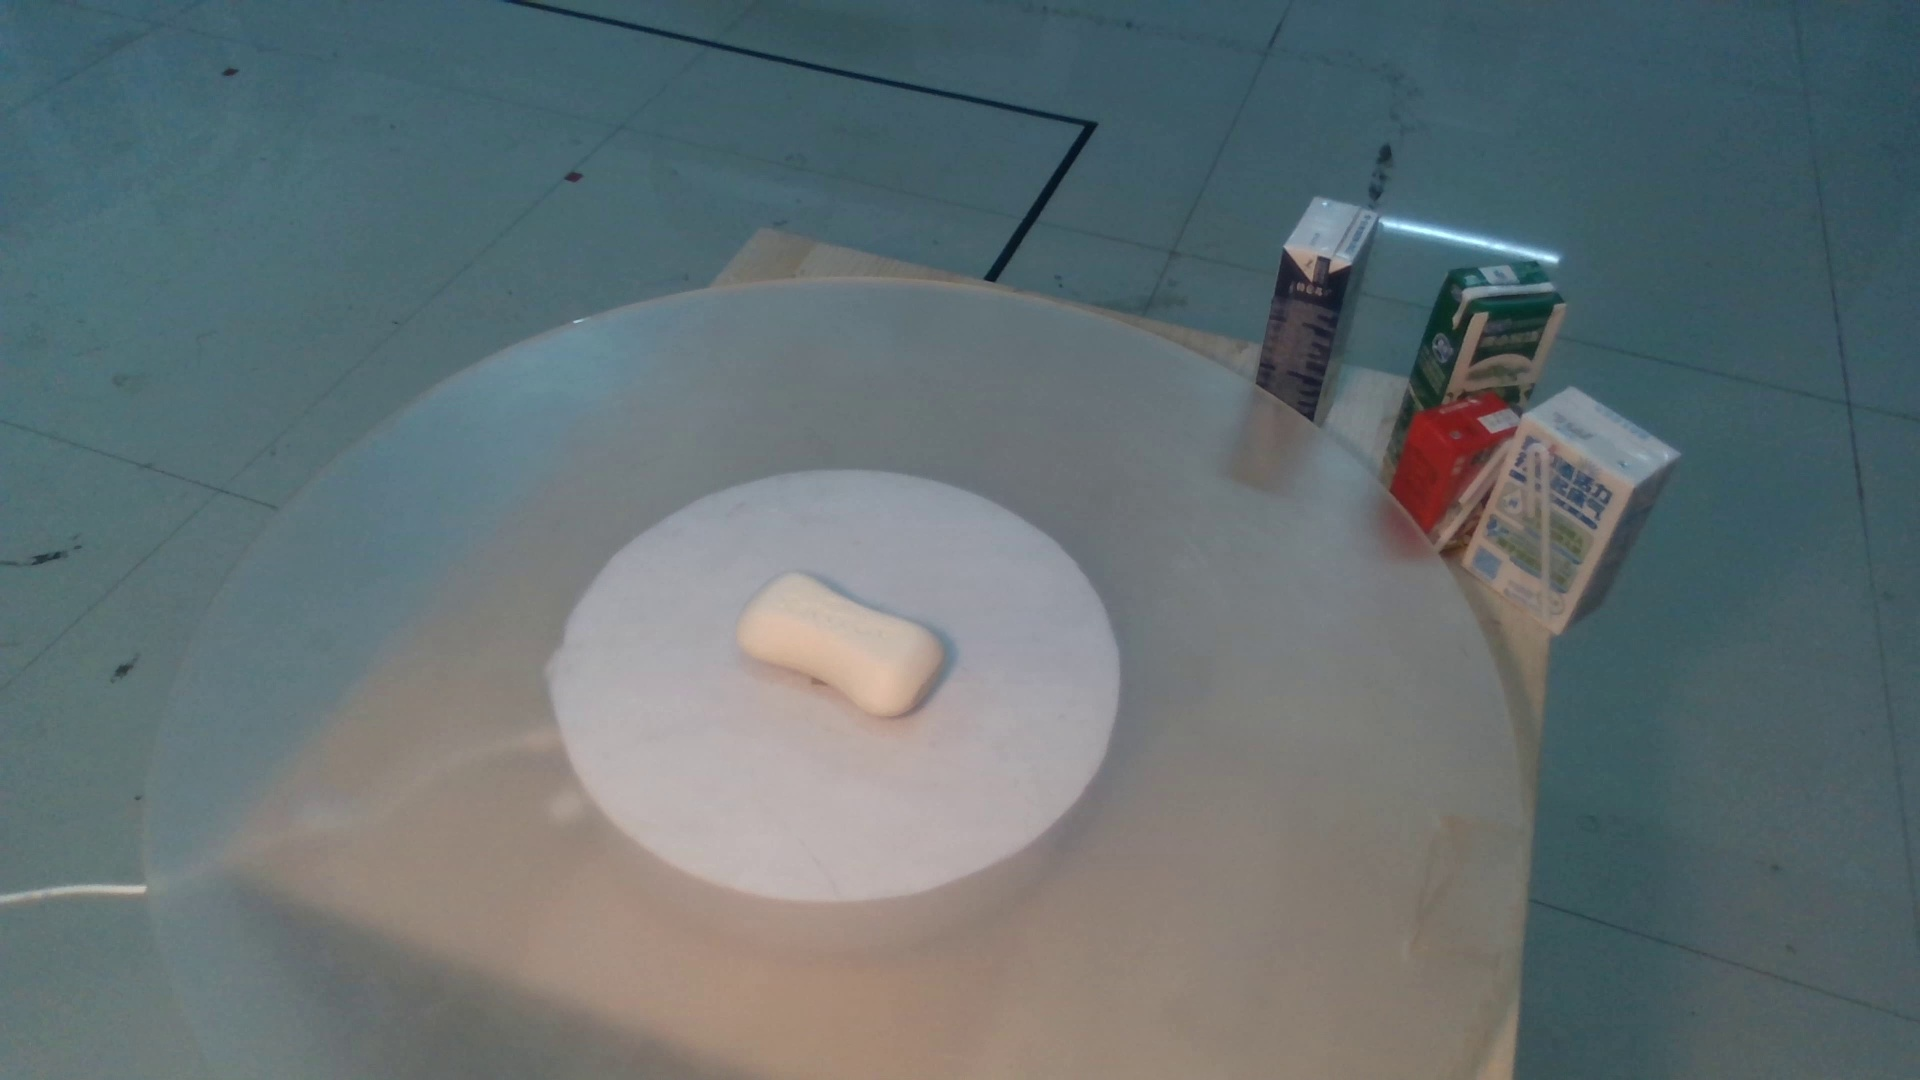CA003_1: (731, 527, 982, 724)
